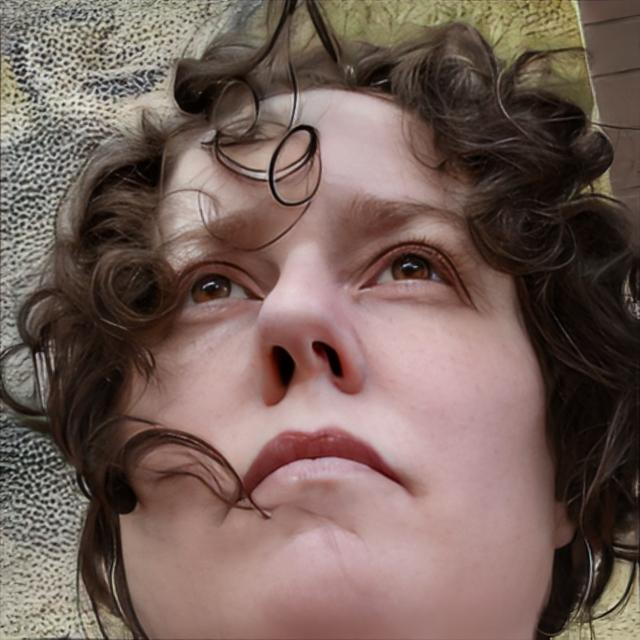sad: (107, 92, 553, 640)
